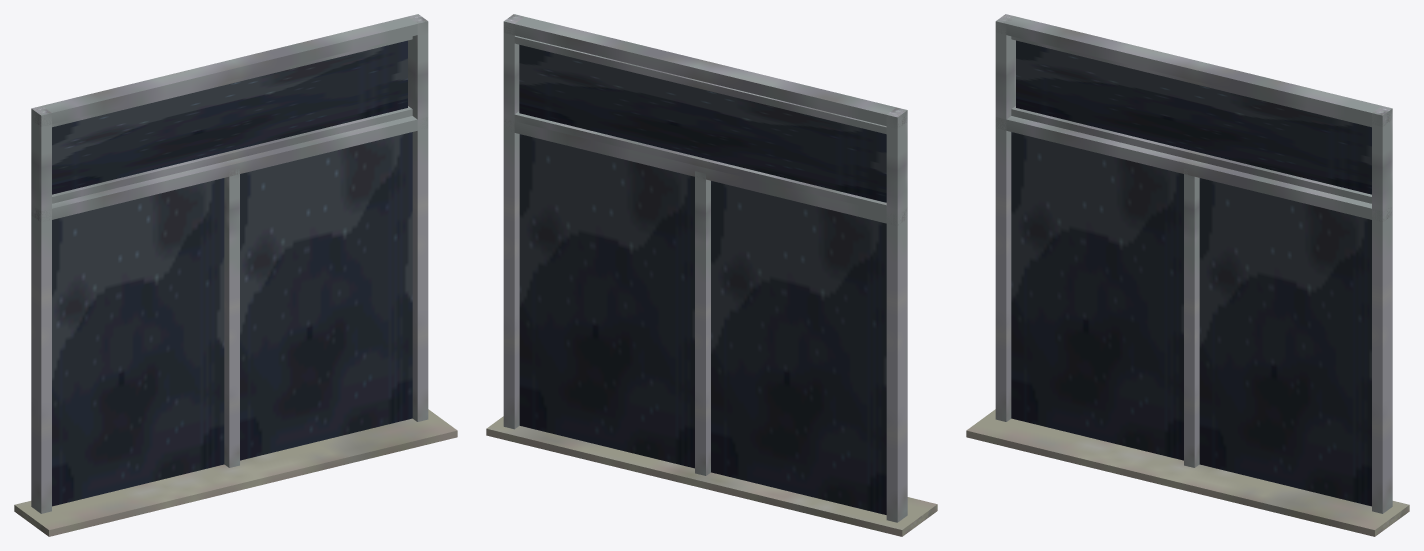
The model's file is window_office.fbx.
3 views of the same model, side by side, from view 1: azimuth 30°, elevation 25°; view 2: azimuth 150°, elevation 25°; view 3: azimuth 330°, elevation 25° (orthographic).
Visible parts, largest first — view 1: window_office, window_office_vent; view 2: window_office, window_office_vent; view 3: window_office, window_office_vent.
Boxes of the visible parts, left/top/right/bottom form: window_office: left=14, top=14, right=457, bottom=536; window_office_vent: left=52, top=36, right=412, bottom=203; window_office: left=486, top=14, right=937, bottom=536; window_office_vent: left=514, top=36, right=886, bottom=211; window_office: left=966, top=14, right=1409, bottom=536; window_office_vent: left=1011, top=36, right=1371, bottom=203.
Size of the model in its own units: 1.9 by 1.8 by 0.28.
